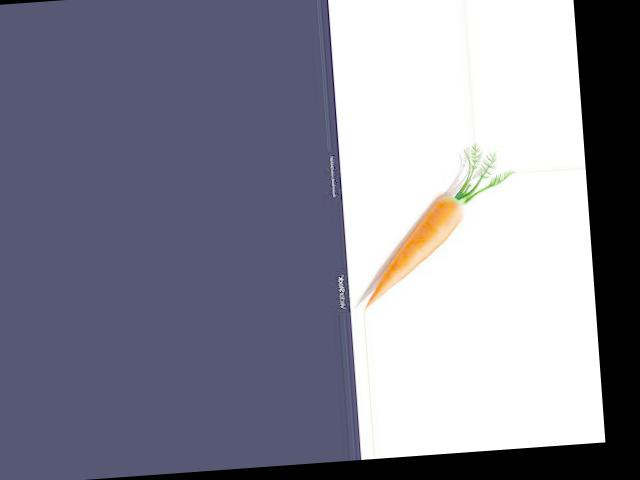carrot: (353, 191, 475, 309)
